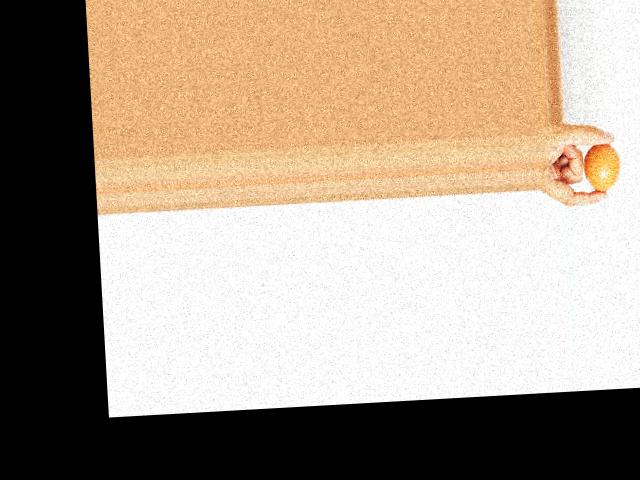egg: (582, 142, 623, 193)
